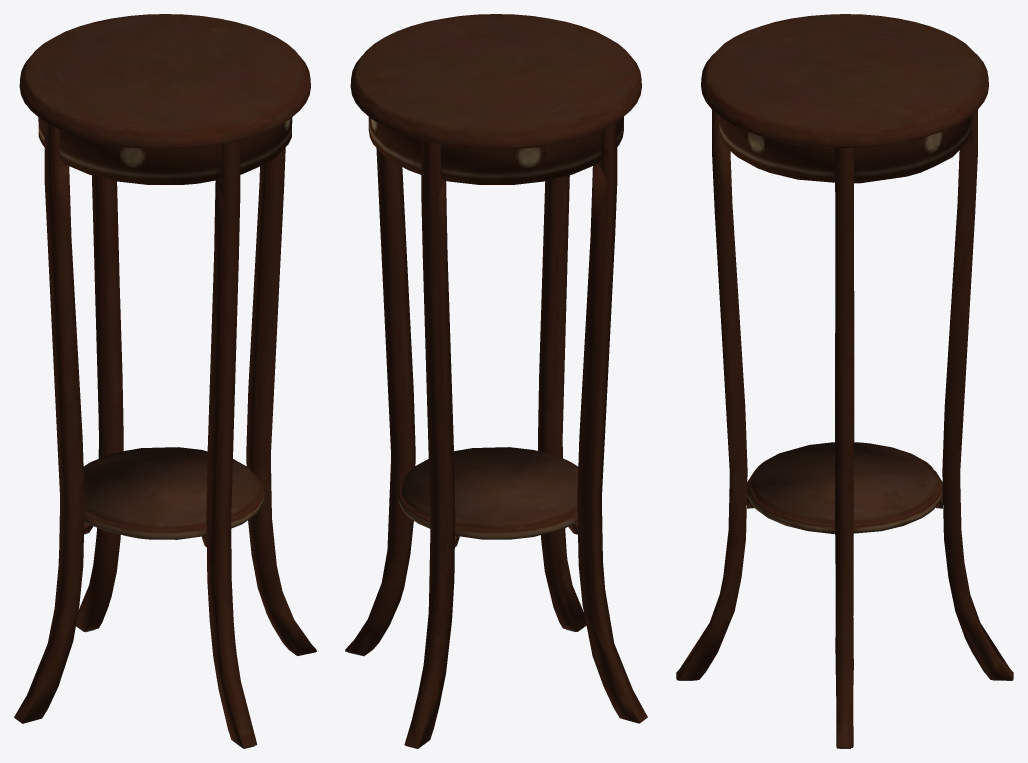
Rendered from side_table_tall_01.lite.glb.
3 views of the same model, side by side, from view 1: azimuth 30°, elevation 25°; view 2: azimuth 150°, elevation 25°; view 3: azimuth 270°, elevation 25° (orthographic).
Visible parts, largest first — view 1: side_table_tall_01; view 2: side_table_tall_01; view 3: side_table_tall_01.
Part boxes in pixels (left/top/right/bottom): side_table_tall_01: left=14, top=14, right=316, bottom=748; side_table_tall_01: left=345, top=14, right=647, bottom=748; side_table_tall_01: left=676, top=14, right=1013, bottom=748.
Bounding box in the file's own units: 0.3837 × 0.7611 × 0.3837.
1 material, 1 textured.
